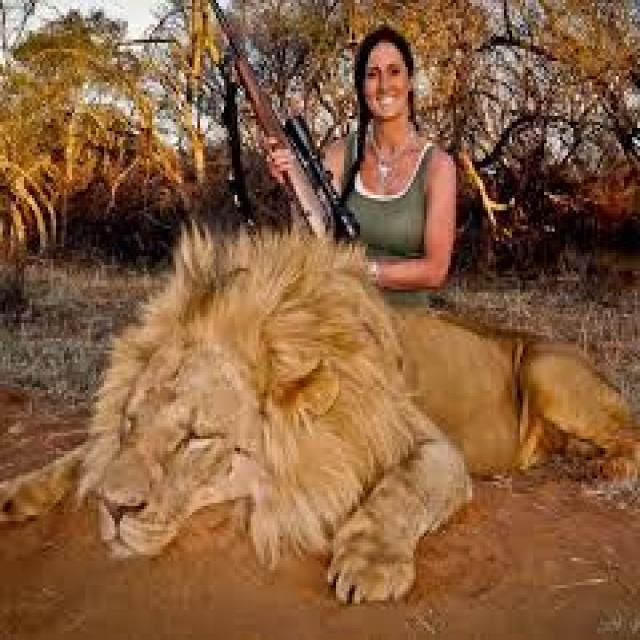lion: (60, 253, 536, 545)
poacher: (220, 1, 507, 269)
weapon: (257, 8, 344, 275)
